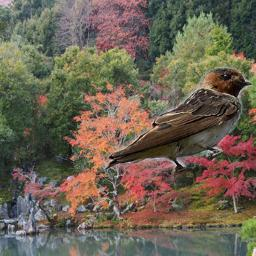Swallow: (100, 65, 253, 176)
